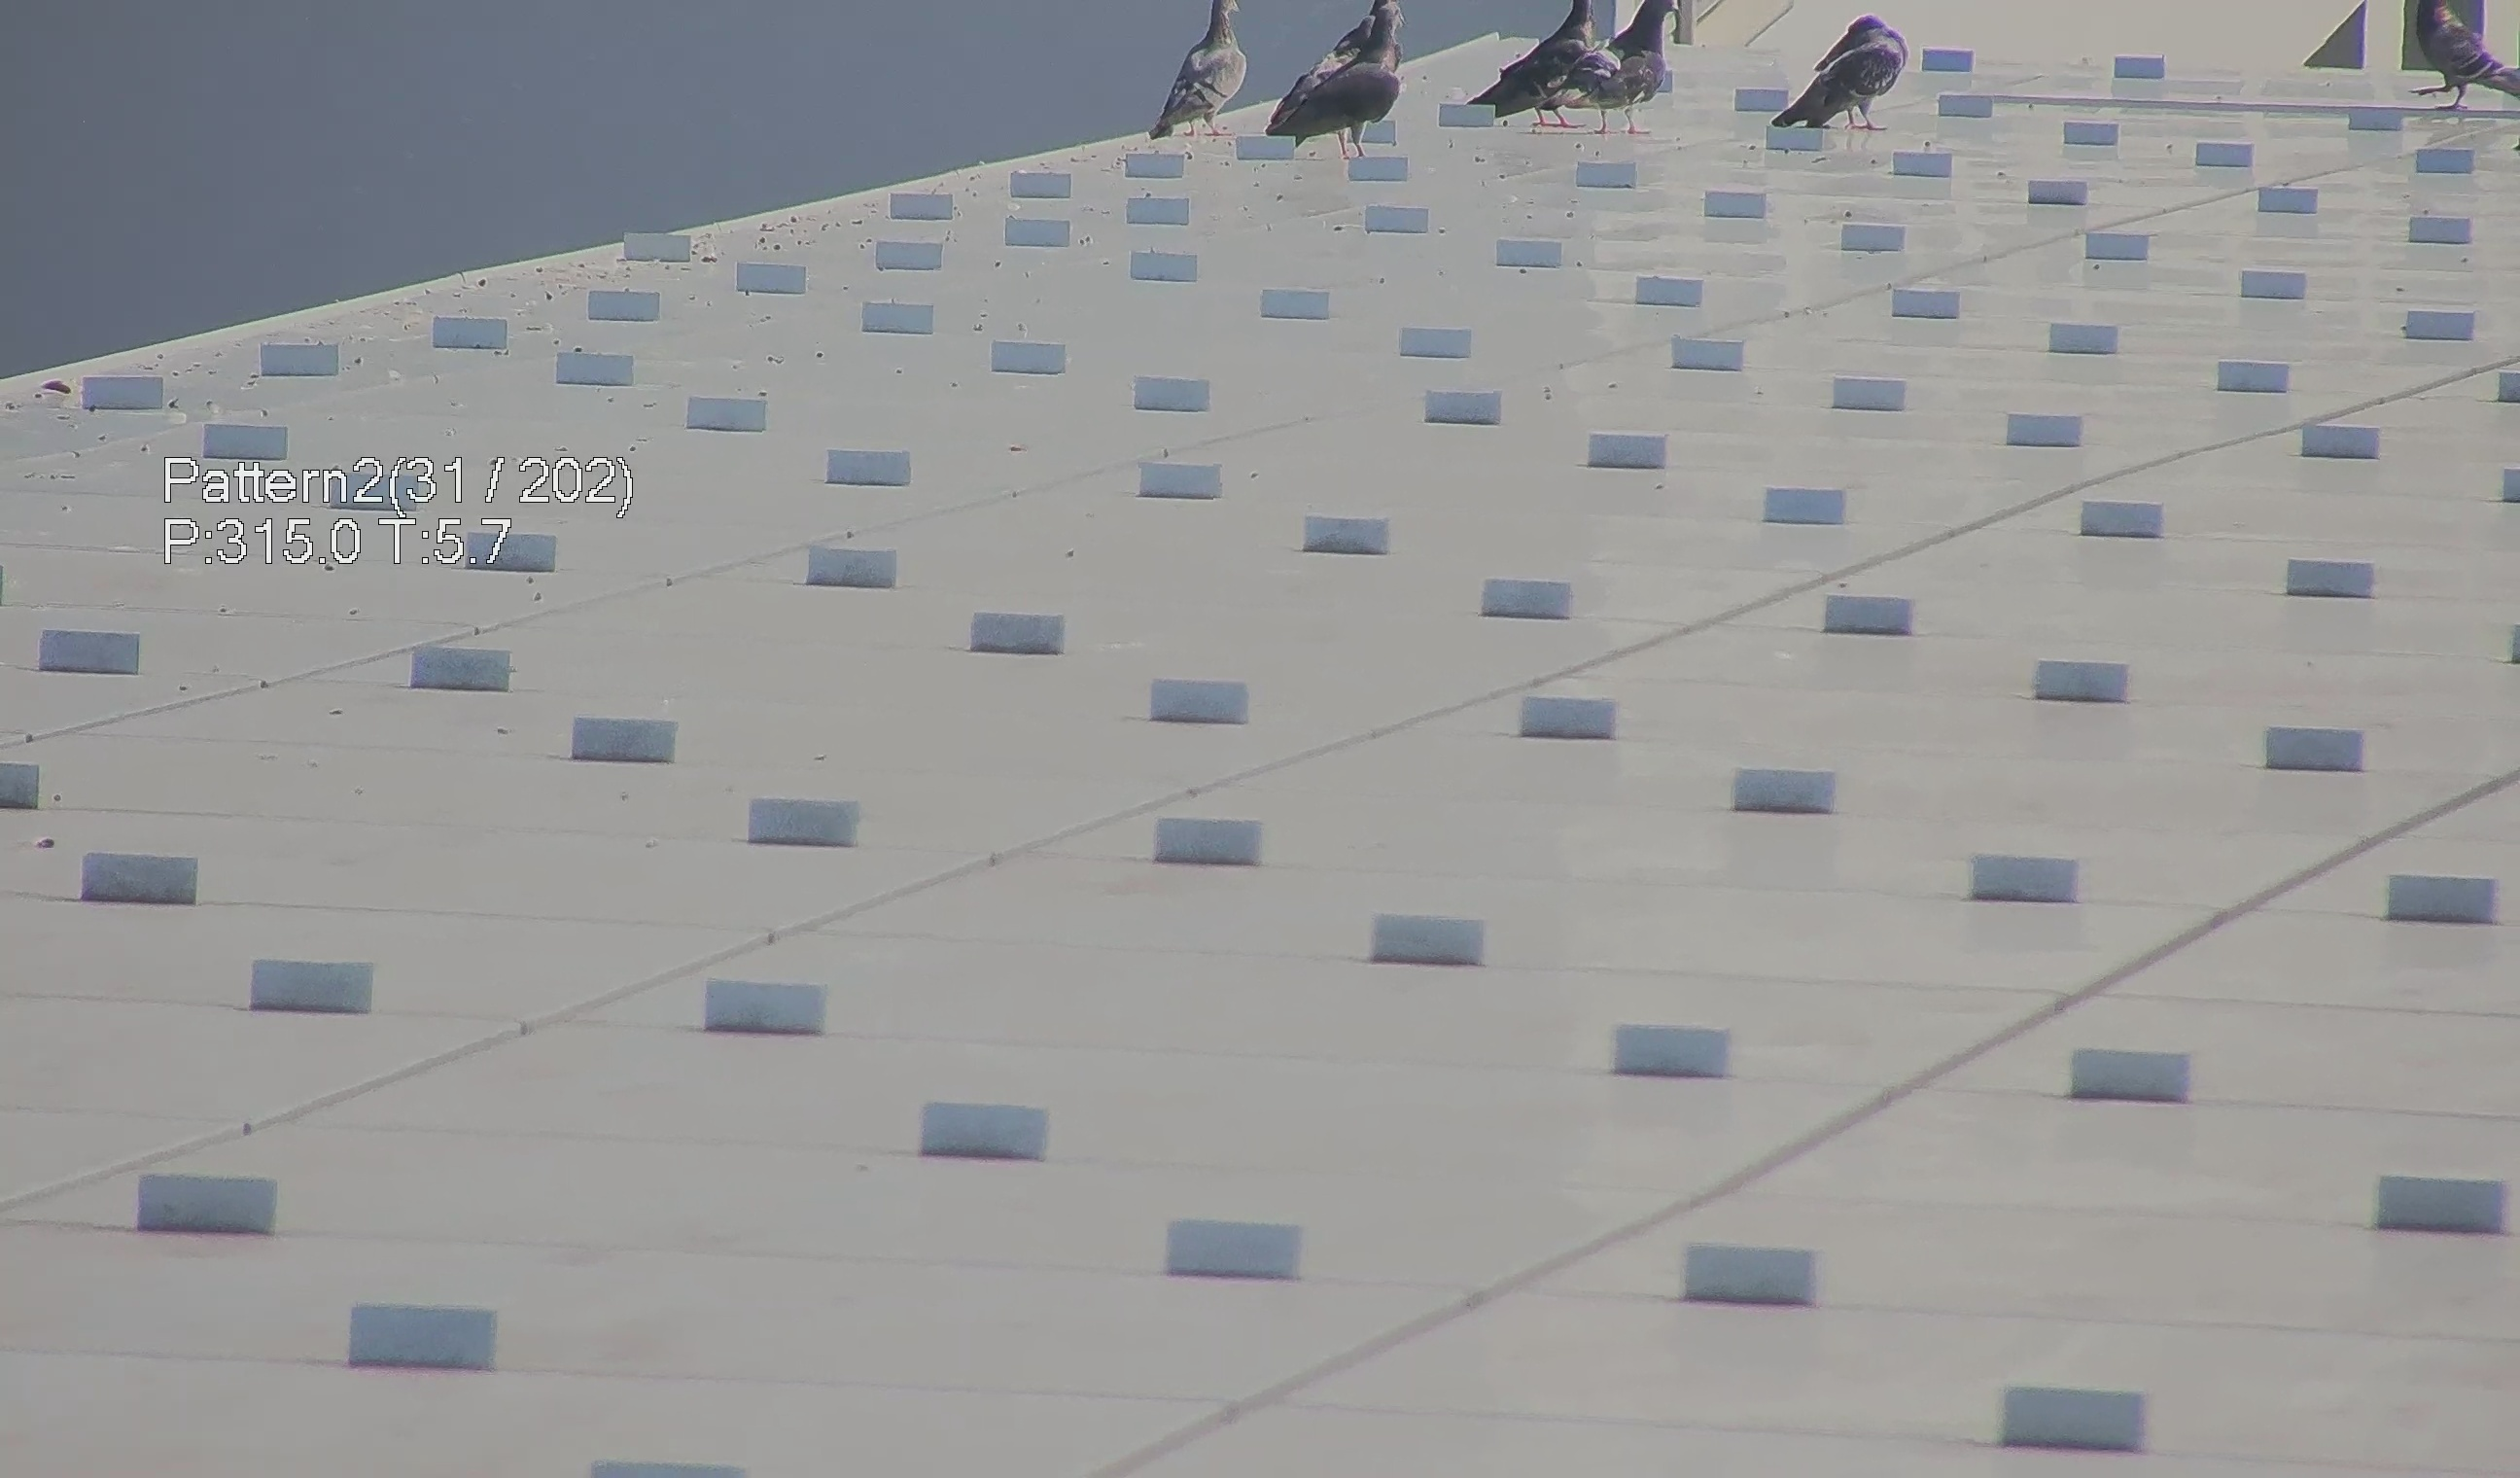Pigeon: (1261, 2, 1419, 153), (1449, 2, 1607, 137), (1776, 9, 1927, 144), (1134, 2, 1259, 148), (1574, 2, 1674, 151), (2413, 2, 2520, 116)
